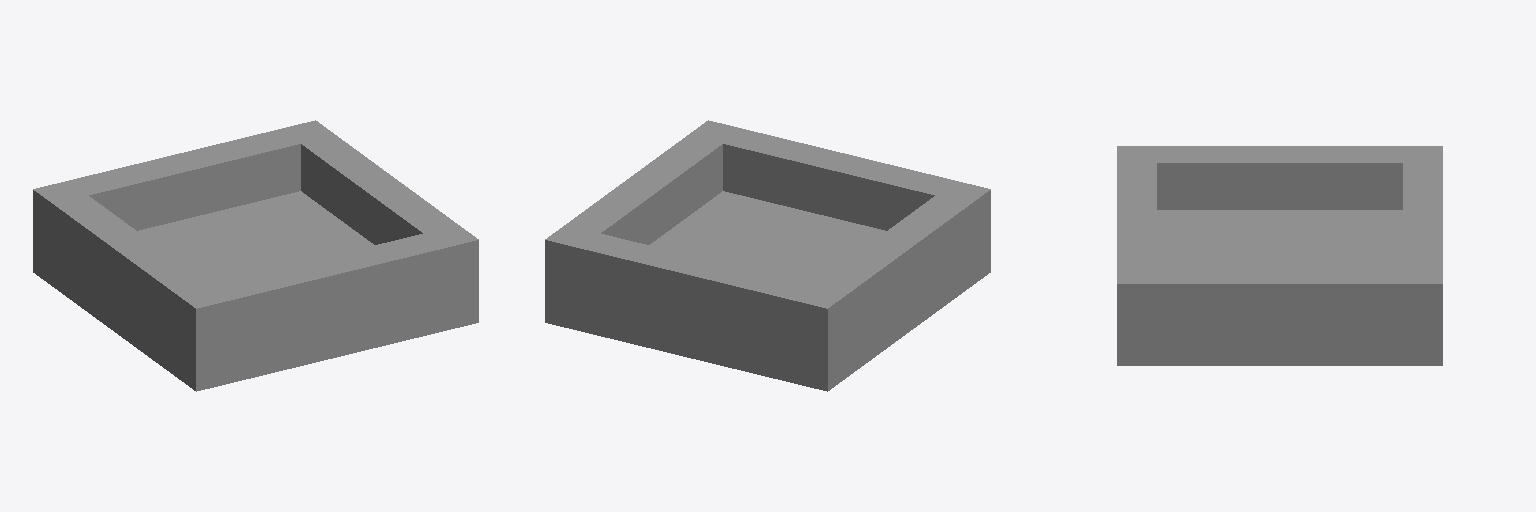
File: pool.obj
3 renders of one model, left to right at view 1: azimuth 30°, elevation 25°; view 2: azimuth 150°, elevation 25°; view 3: azimuth 270°, elevation 25°, orthographic.
Visible parts, largest first — view 1: Plane_Plane.001; view 2: Plane_Plane.001; view 3: Plane_Plane.001.
Part boxes in pixels (left/top/right/bottom): Plane_Plane.001: left=33, top=120, right=478, bottom=391; Plane_Plane.001: left=545, top=120, right=990, bottom=391; Plane_Plane.001: left=1117, top=146, right=1442, bottom=365.
Size of the model in its own units: 10 by 2.8 by 10.